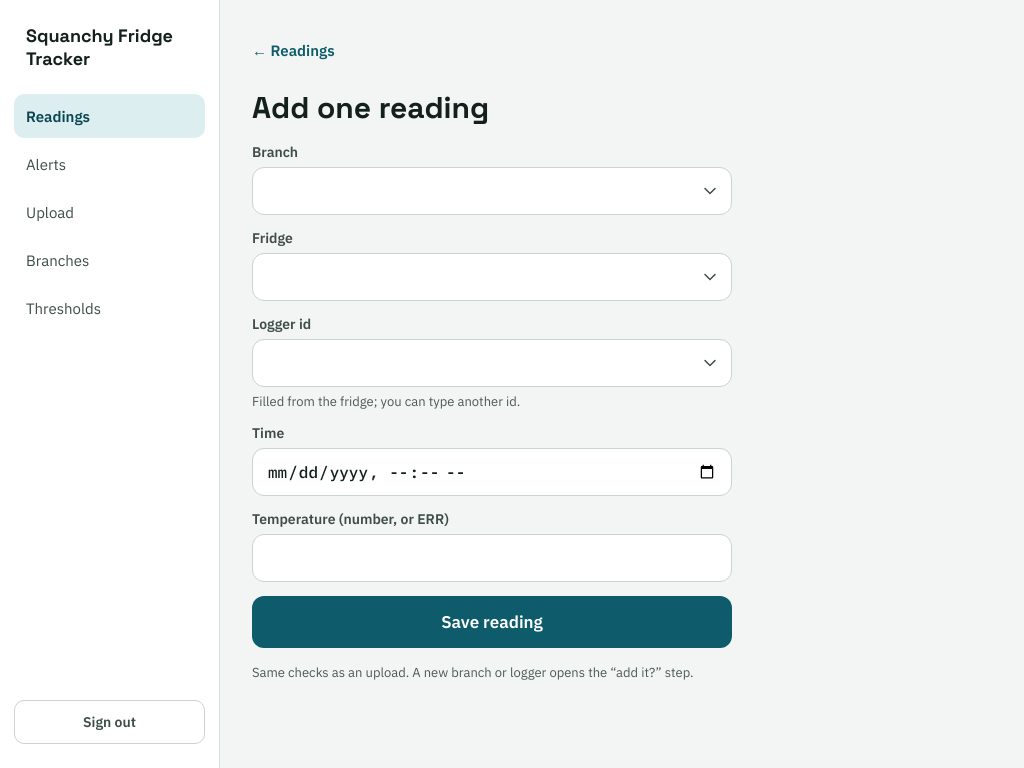
Scenario: SingleRecordPage › puts the suggested branch name in the Branch field when the user picks it
expect the heading "Add one reading" is shown: met, box top-left (252, 88), bottom-right (489, 127)
Type "Haifaa" into the dropdown labelled "Branch". click: (492, 191)
box: top-left (252, 167), bottom-right (732, 215)
Then press Escape
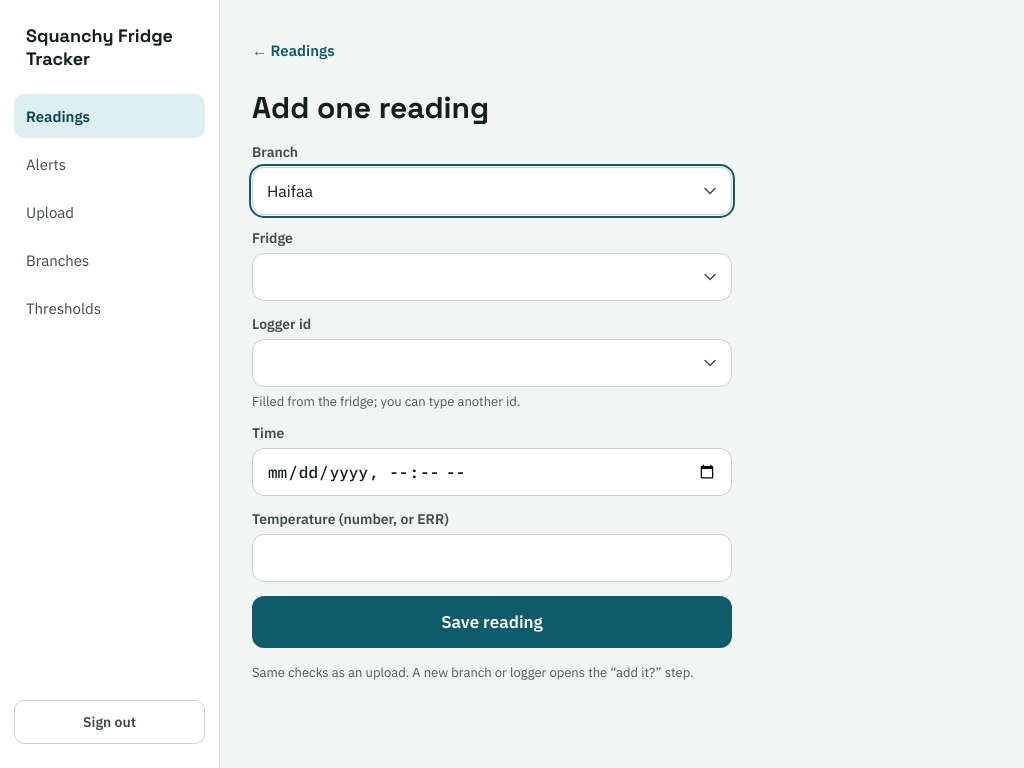
Click the button "Save reading". click: (492, 622)
box: top-left (252, 596), bottom-right (732, 648)
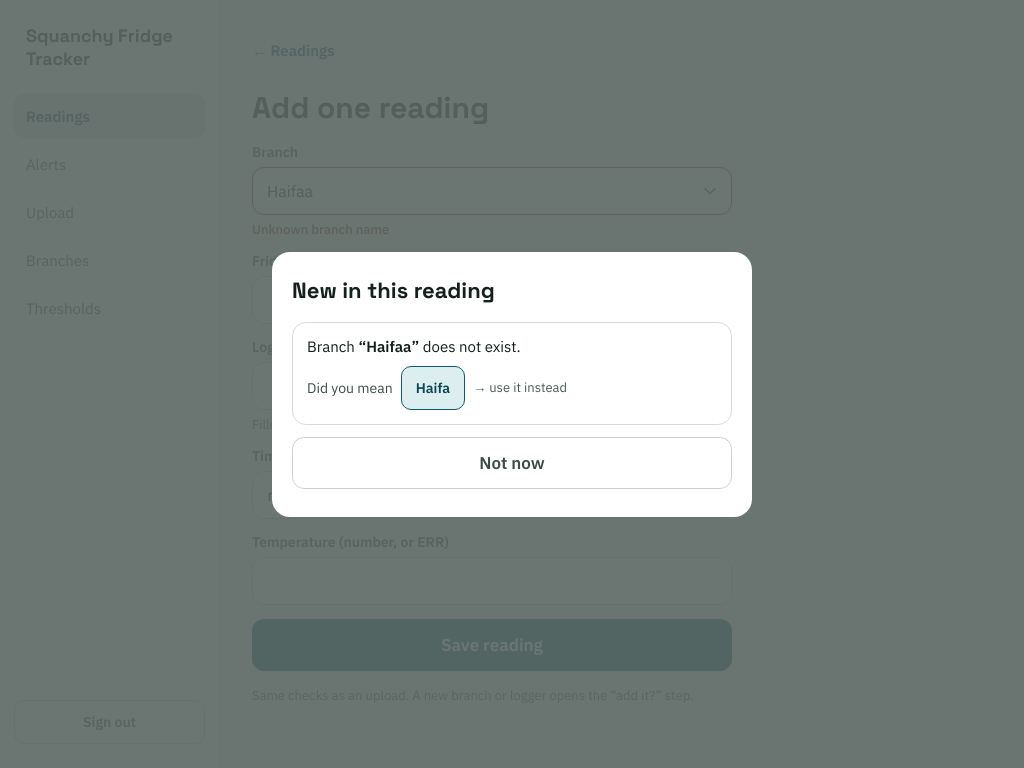
Click the button "Haifa". click: (433, 388)
box: top-left (401, 366), bottom-right (465, 410)
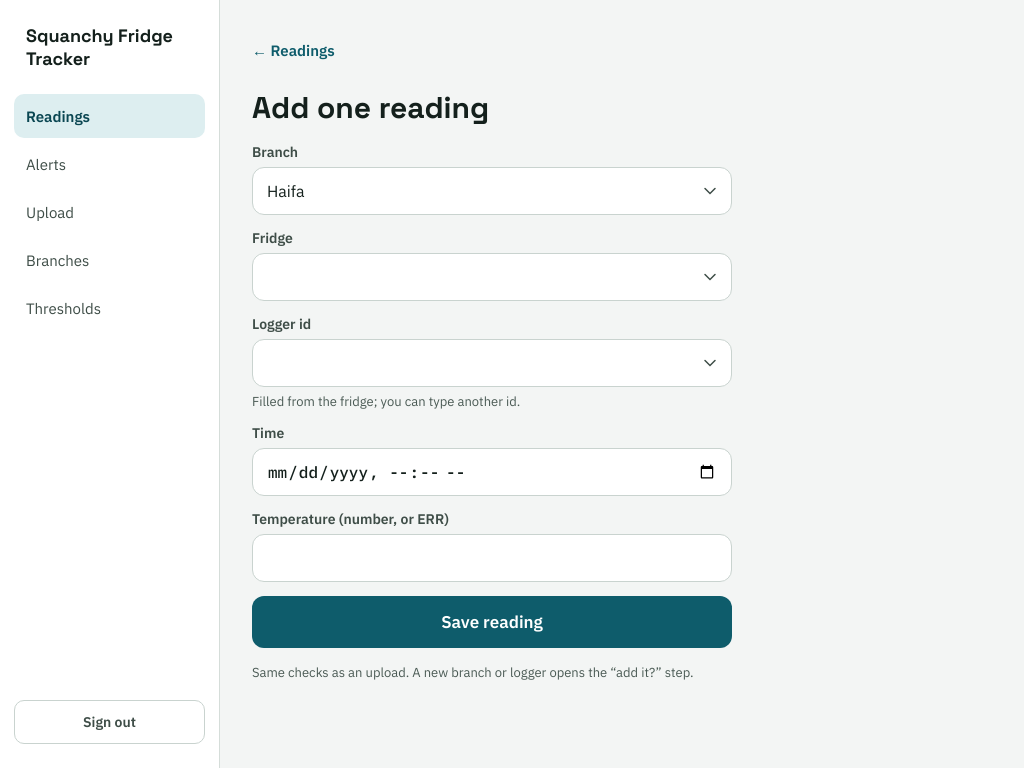
expect the dialog is gone: met
expect the dropdown labelled "Branch" holds "Haifa": met, box top-left (252, 167), bottom-right (732, 215)
